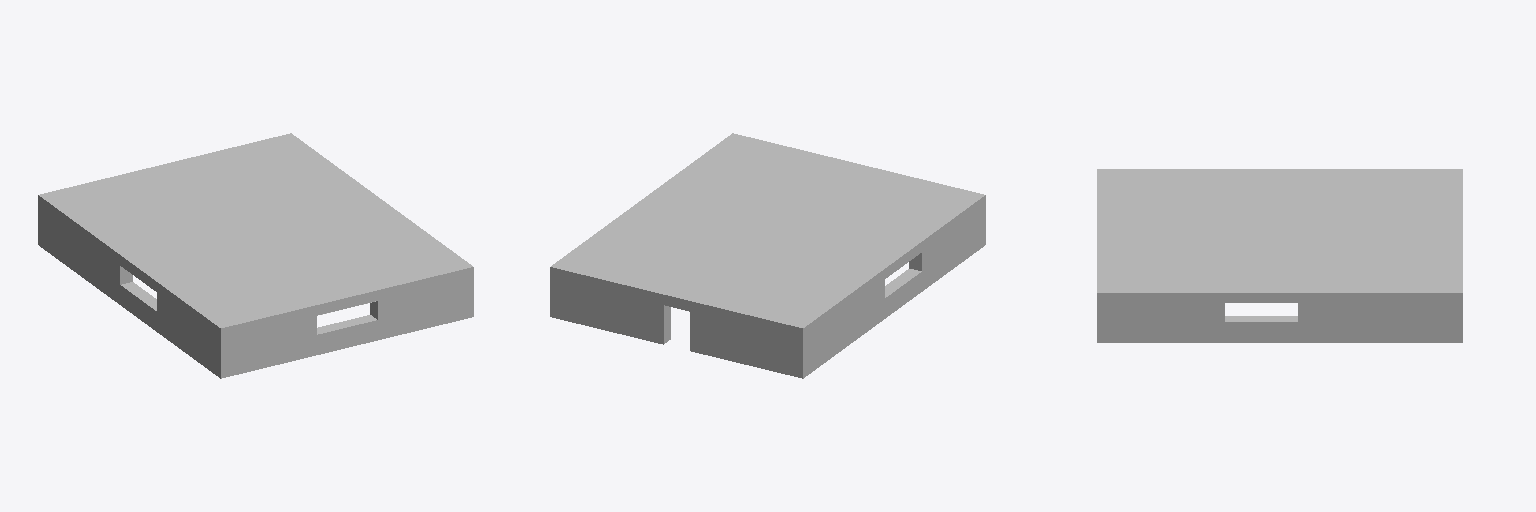
Rendered from room.obj.
3 renders of one model, left to right at view 1: azimuth 30°, elevation 25°; view 2: azimuth 150°, elevation 25°; view 3: azimuth 270°, elevation 25°, orthographic.
Parts seen in each view (by area): view 1: Plane.002_Plane.008; view 2: Plane.002_Plane.008; view 3: Plane.002_Plane.008.
Part boxes in pixels (x1,y1,x2,y2): Plane.002_Plane.008: (38,133,473,378); Plane.002_Plane.008: (550,133,985,378); Plane.002_Plane.008: (1097,169,1462,342).
Bounding box in the file's own units: 13.18 × 2.5 × 16.47.